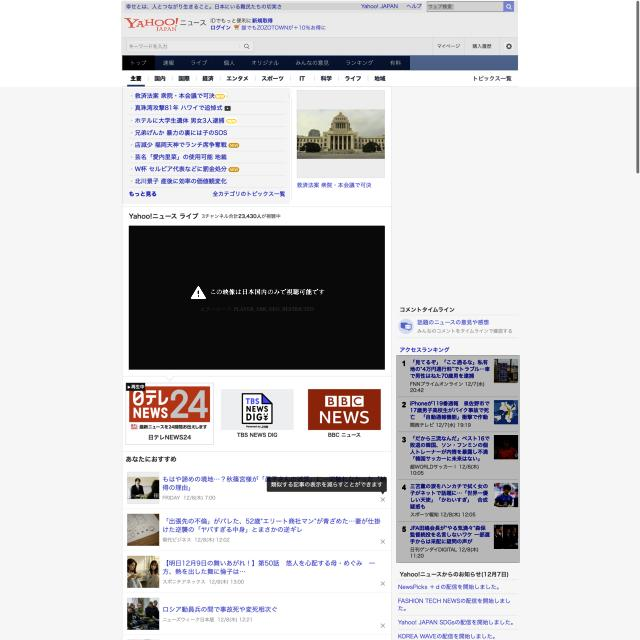CheckBox: (504, 2, 514, 12)
CheckedTextView: (127, 41, 254, 52), (427, 1, 514, 12)
QR code: (396, 355, 520, 563), (122, 88, 290, 204)
RadioButton: (226, 117, 237, 125), (215, 93, 228, 99)
bag: (121, 1, 518, 55)
carousel: (504, 42, 514, 51), (242, 43, 251, 51), (506, 4, 513, 10)
copy: (129, 225, 385, 370), (297, 109, 385, 159)
date picker: (124, 15, 207, 35)
decoration: (122, 71, 391, 87), (123, 56, 410, 70), (125, 3, 422, 10)
footer: (129, 43, 168, 50), (428, 4, 453, 10)
